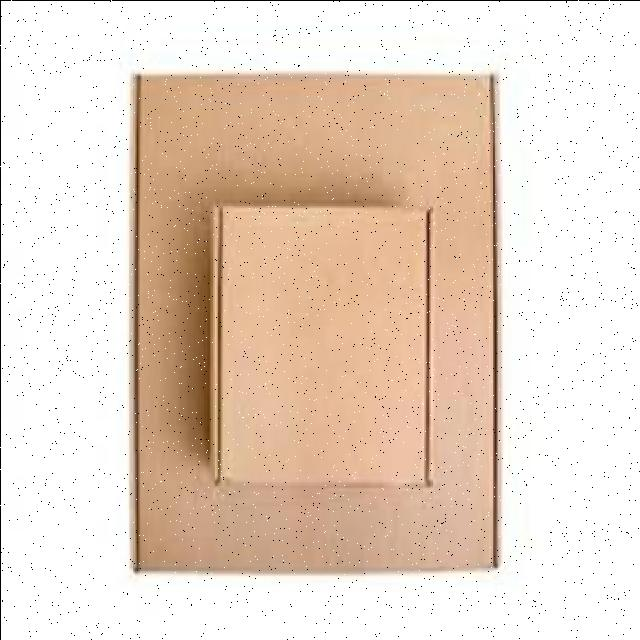normal: (125, 61, 506, 582), (185, 144, 432, 450)
